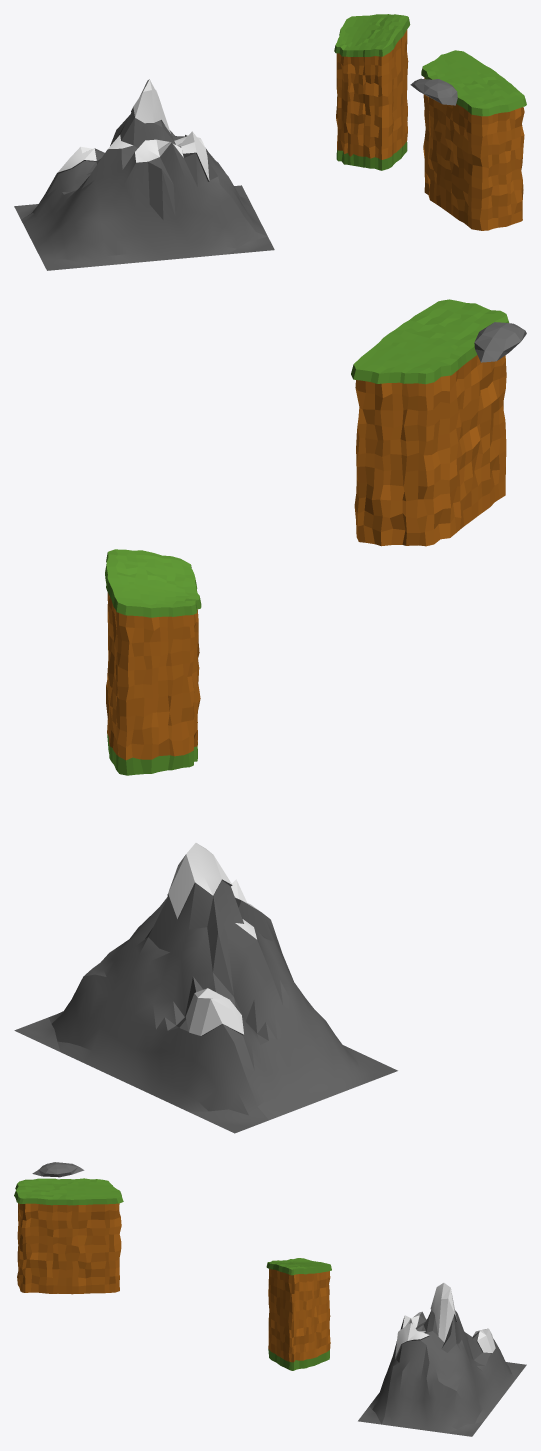
Rendered from Mountains_level.fbx.
The picture shows the model from 3 angles, top to bottom: view 1: azimuth 30°, elevation 25°; view 2: azimuth 150°, elevation 25°; view 3: azimuth 270°, elevation 25°; orthographic projection. The views are drawn at different scales.
Parts seen in each view (by area): view 1: Landscape, Plane.006, Plane.008, Cube.010; view 2: Landscape, Plane.006, Plane.008, Cube.010; view 3: Landscape, Plane.006, Plane.008, Cube.010.
Part boxes in pixels (bbox=[...]): Landscape: bbox=[14, 79, 274, 270]; Plane.006: bbox=[421, 50, 526, 230]; Plane.008: bbox=[334, 14, 410, 170]; Cube.010: bbox=[410, 78, 457, 105]; Landscape: bbox=[14, 843, 397, 1133]; Plane.006: bbox=[351, 299, 509, 546]; Plane.008: bbox=[105, 549, 201, 775]; Cube.010: bbox=[474, 322, 526, 362]; Landscape: bbox=[358, 1283, 526, 1436]; Plane.006: bbox=[14, 1178, 123, 1294]; Plane.008: bbox=[266, 1258, 331, 1370]; Cube.010: bbox=[32, 1162, 84, 1177].
Size of the model in its own units: 2144 by 2292 by 4353.
